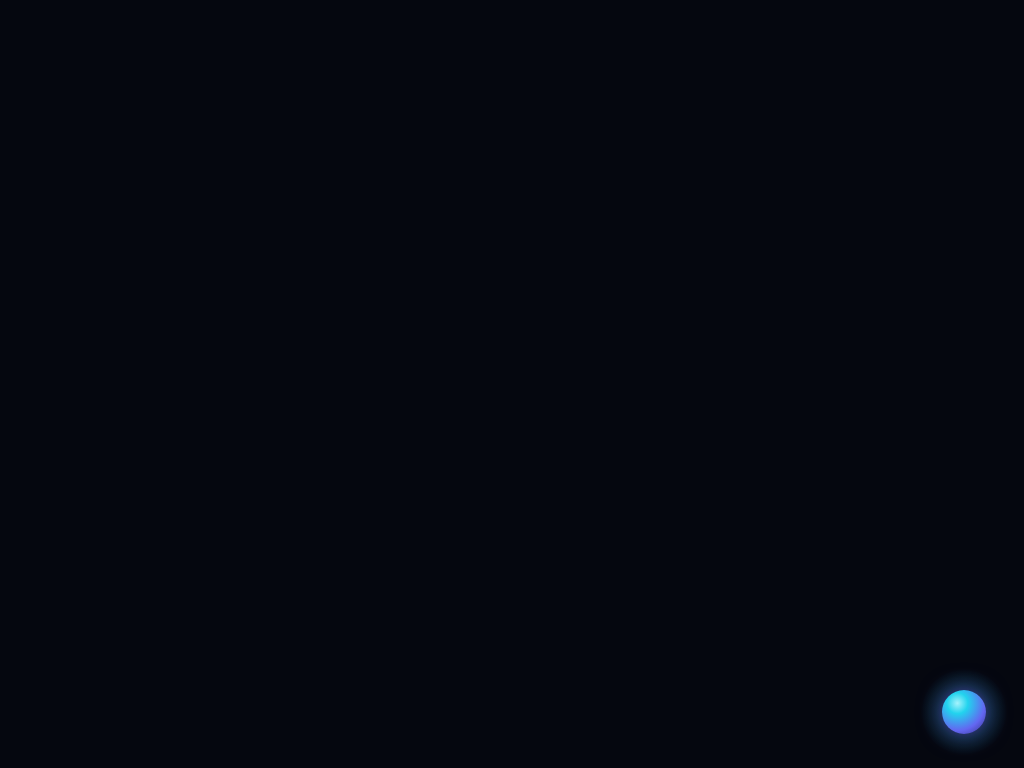
Test: Chatbot › keeps a reply that arrives while the chat is closed
Click the button named "Open chat" at (964, 712), box [928,676,1000,748]
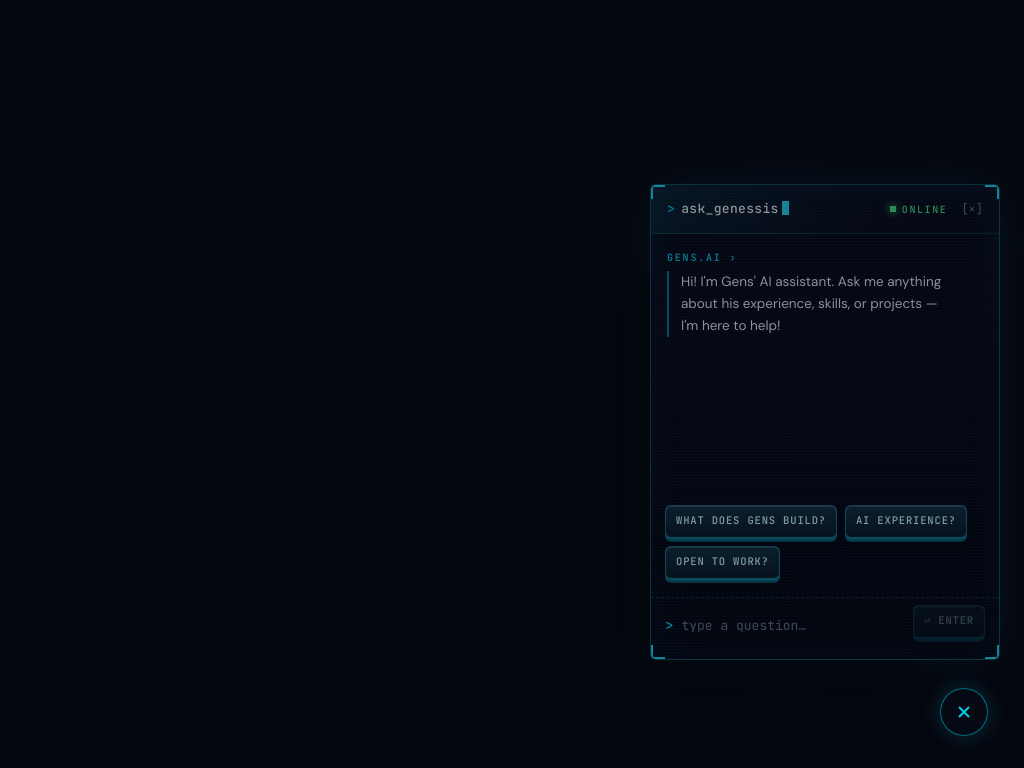
Type "Hi" into the field named "Message" at (793, 625), box [681,608,905,643]
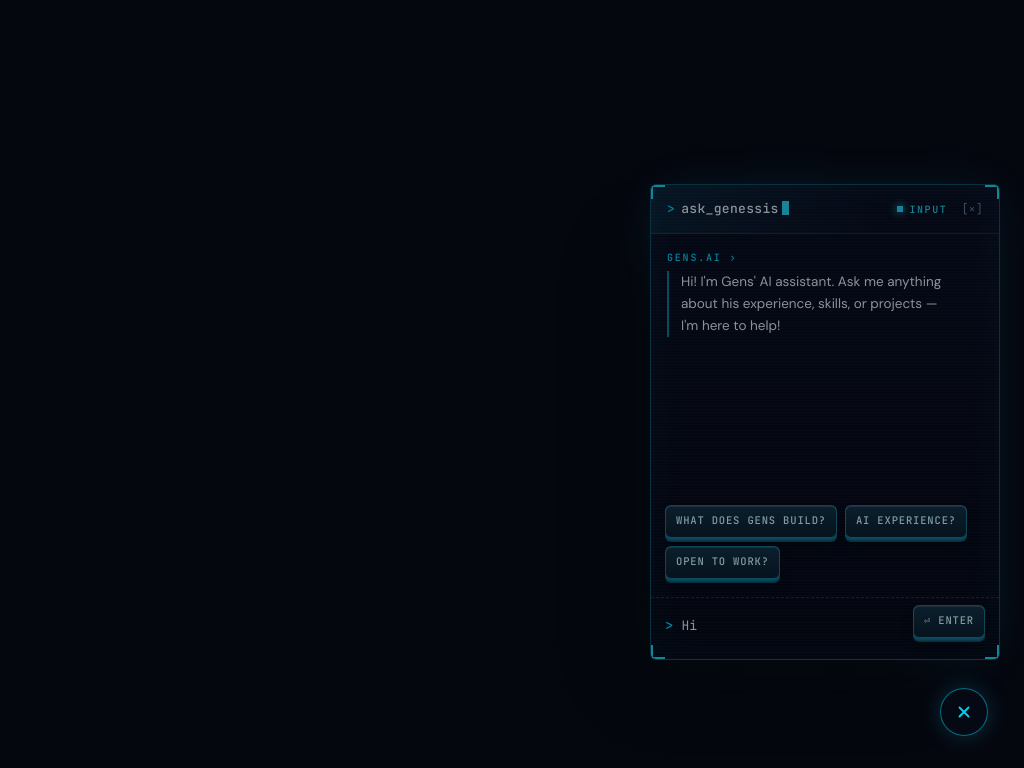
Click the button with aria-label "Send message" at (949, 621), box [913,605,985,638]
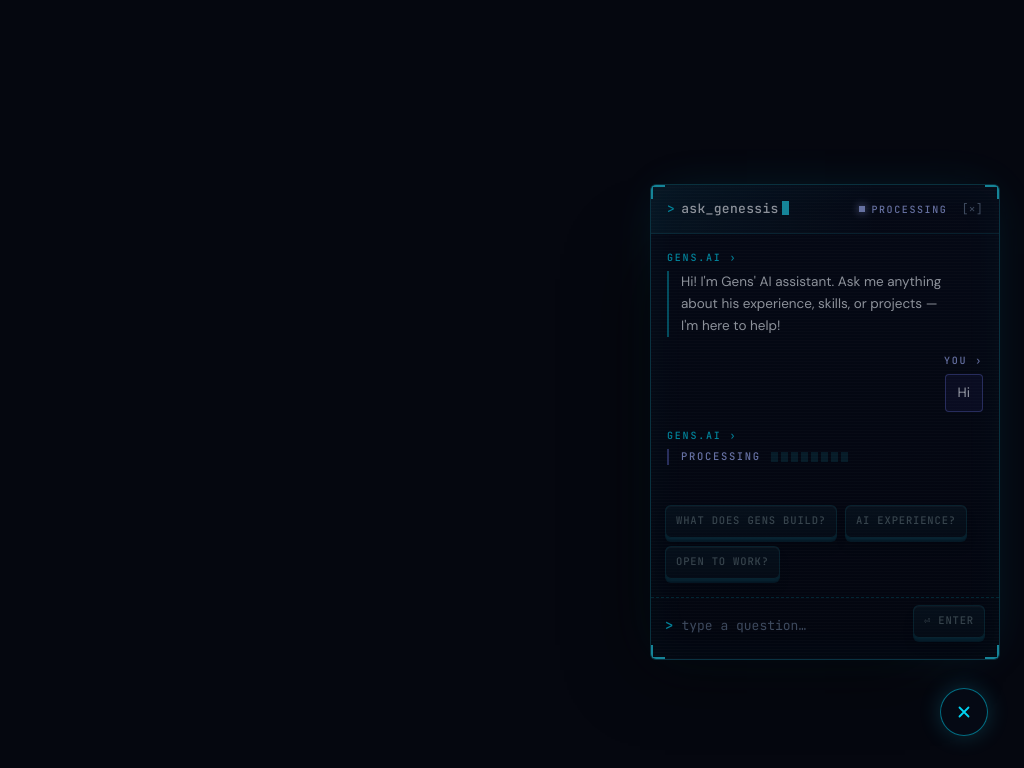
Click the button named "Close chat" at (964, 712), box [928,676,1000,748]
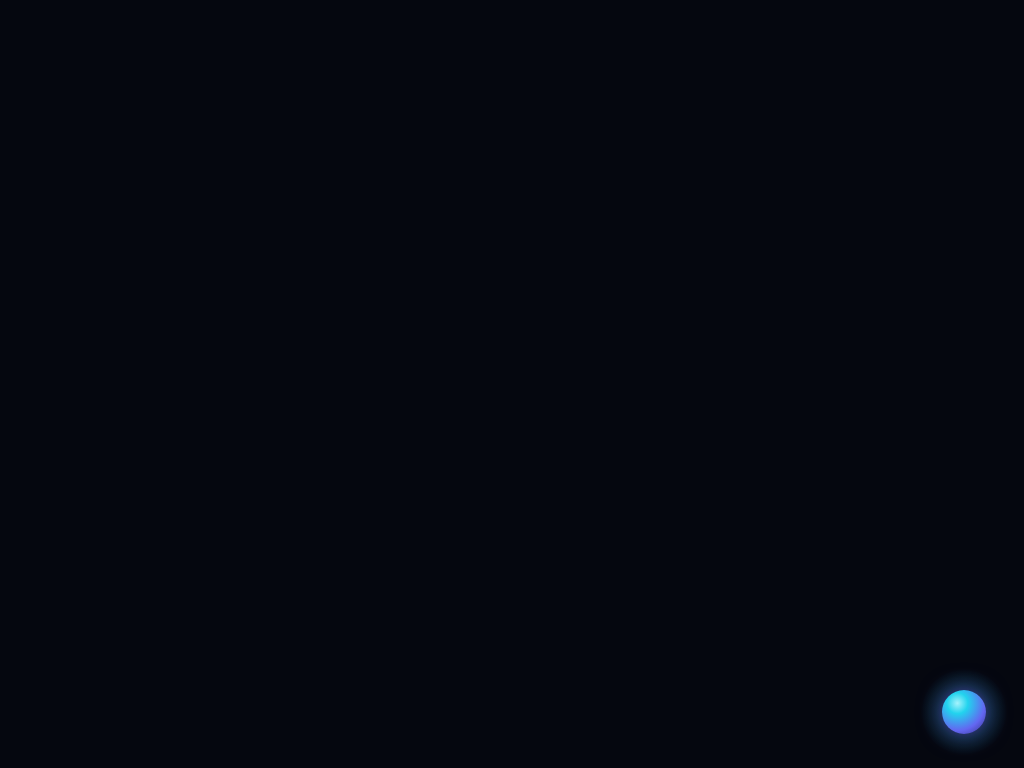
Now the dialog is gone
Click the button named "Open chat" at (964, 712), box [928,676,1000,748]
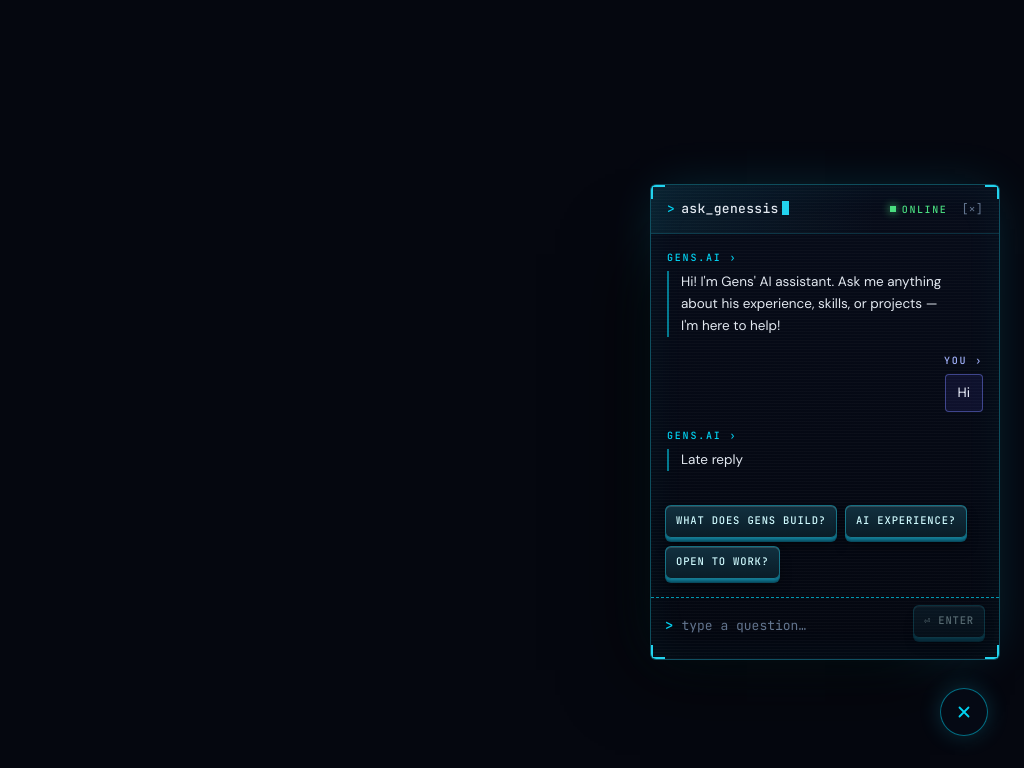
Now the text "Late reply" is shown, box [681,451,743,468]
